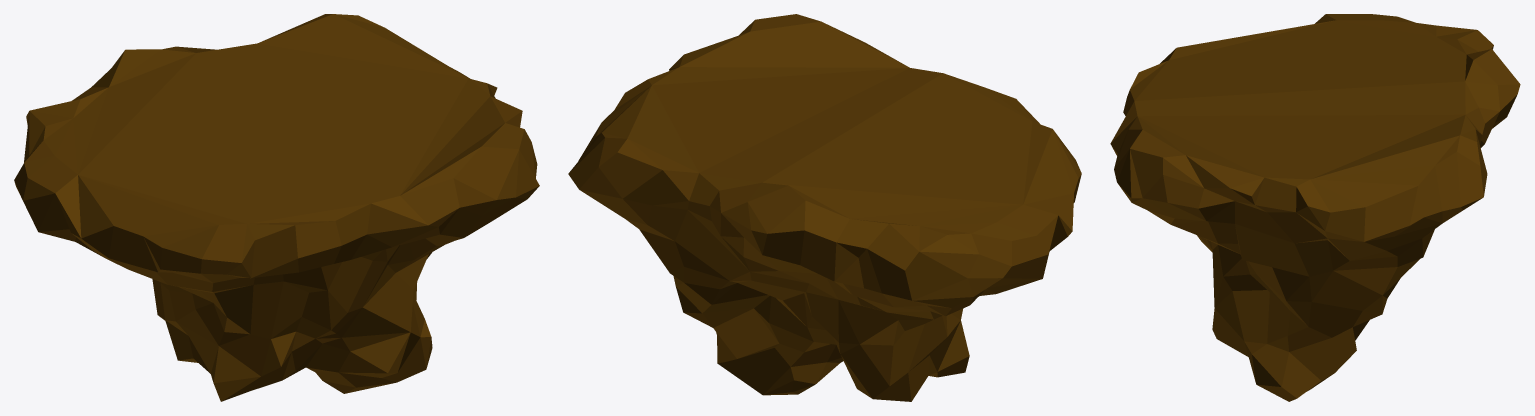
Rendered from island_big.fbx.
The picture shows the model from 3 angles, left to right: view 1: azimuth 30°, elevation 25°; view 2: azimuth 150°, elevation 25°; view 3: azimuth 270°, elevation 25°; orthographic projection. The views are drawn at different scales.
Parts seen in each view (by area): view 1: island_big; view 2: island_big; view 3: island_big.
Boxes of the visible parts, box(x1,y1,x2,y2) form: island_big: box(14, 14, 539, 401); island_big: box(568, 14, 1081, 401); island_big: box(1110, 14, 1520, 401).
Size of the model in its own units: 3945 by 2513 by 3355.
